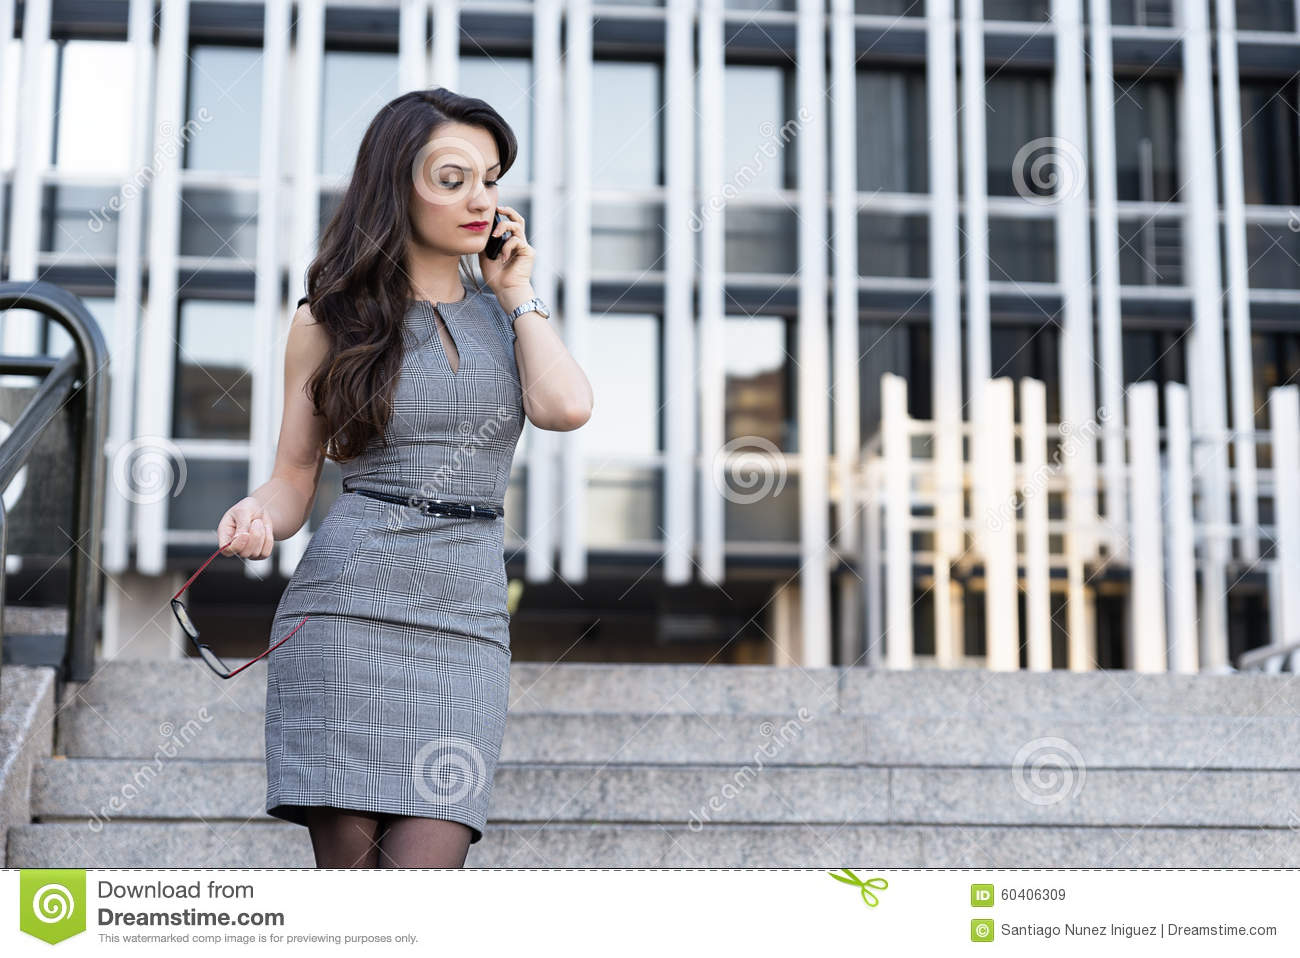talk: (436, 158, 534, 294)
